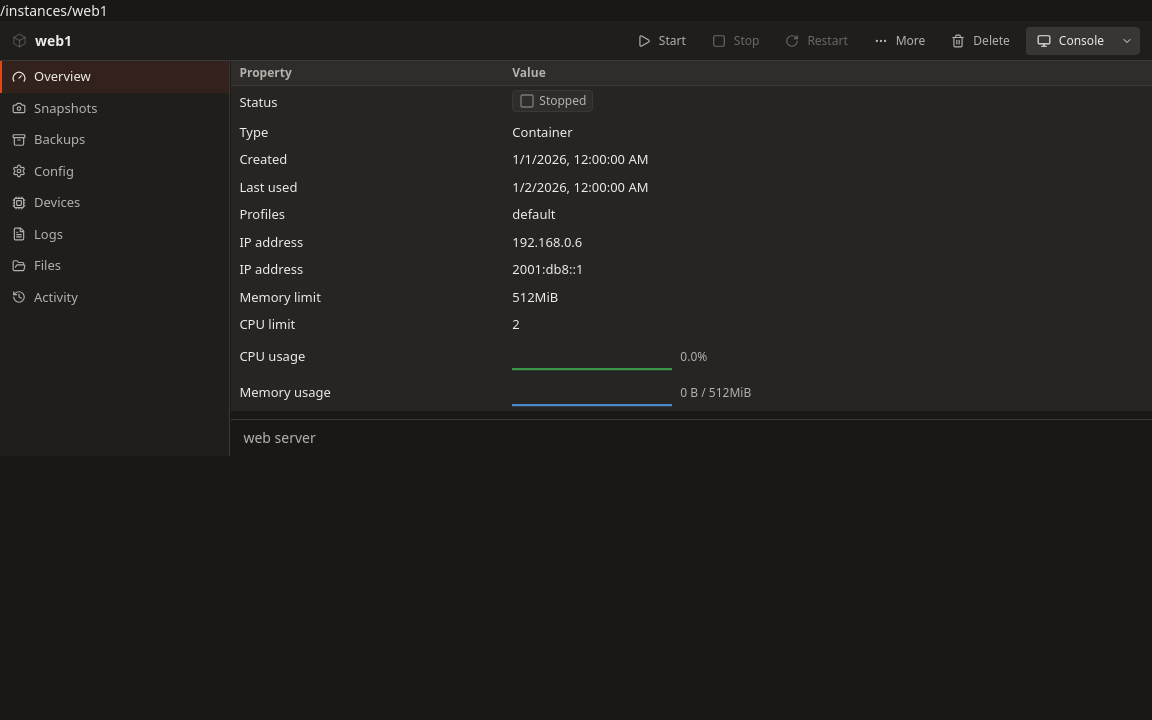
it: InstanceDetailPage › navigates to the new name after rename
Expected: the text "web1" is shown, [12,30,72,50]
Click the button with test id "detail-more" at (900, 40), box [864,26,935,54]
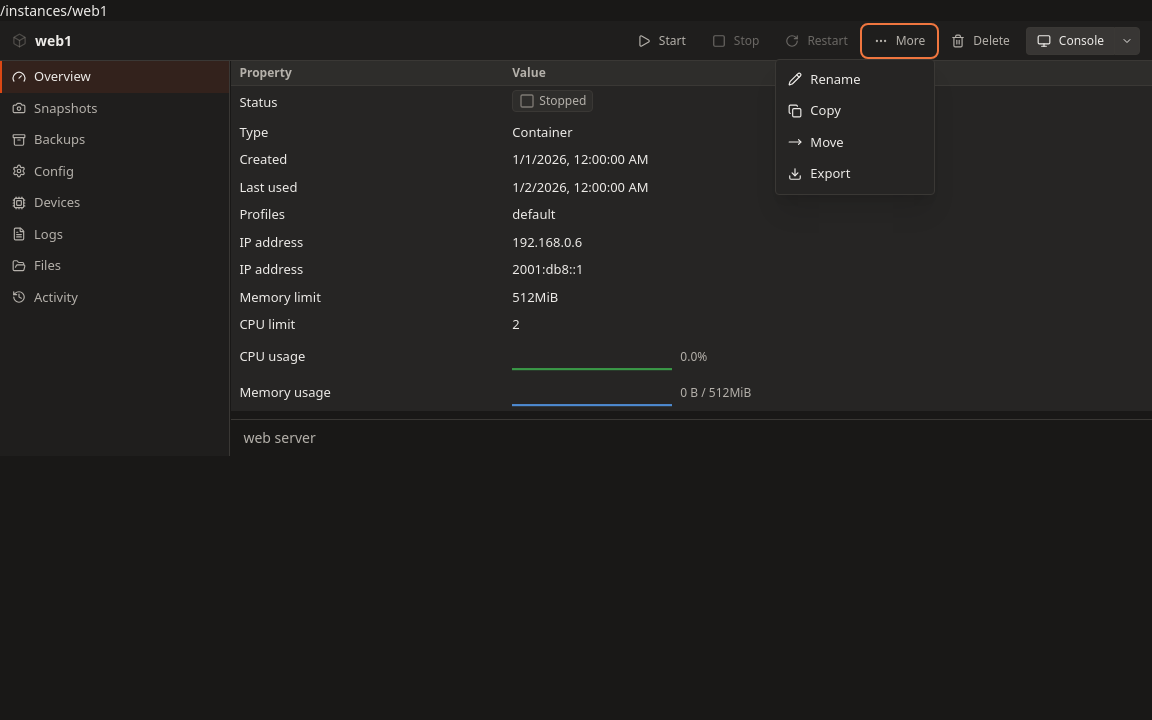
Click the button with test id "detail-more-rename" at (855, 79), box [776,64,934,95]
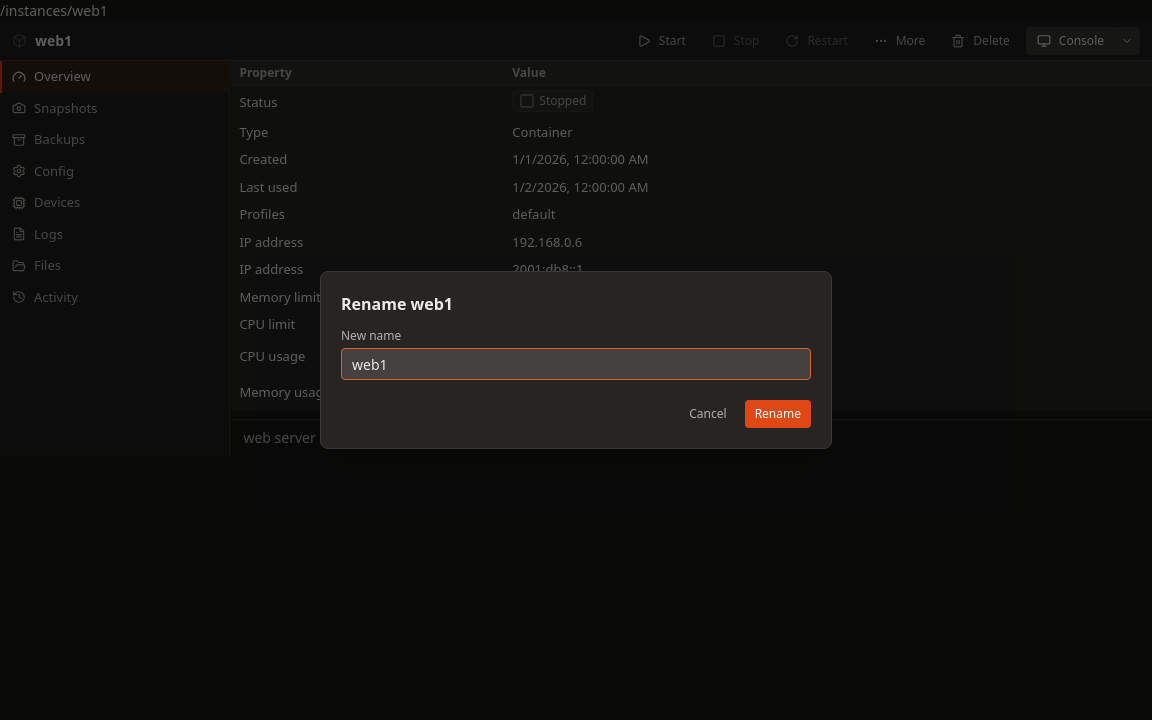
Replace the text in the field with test id "rename-name" with "web2" at (576, 364), box [341,348,811,380]
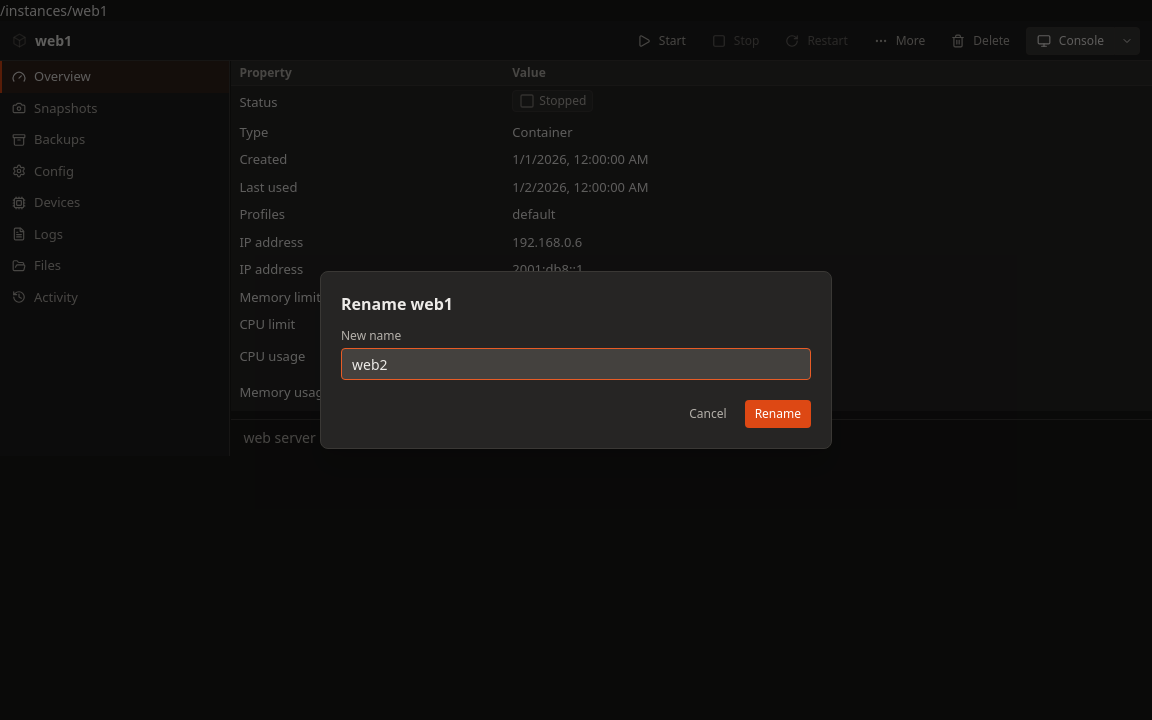
Click the button with test id "rename-confirm" at (778, 414), box [745,400,811,428]
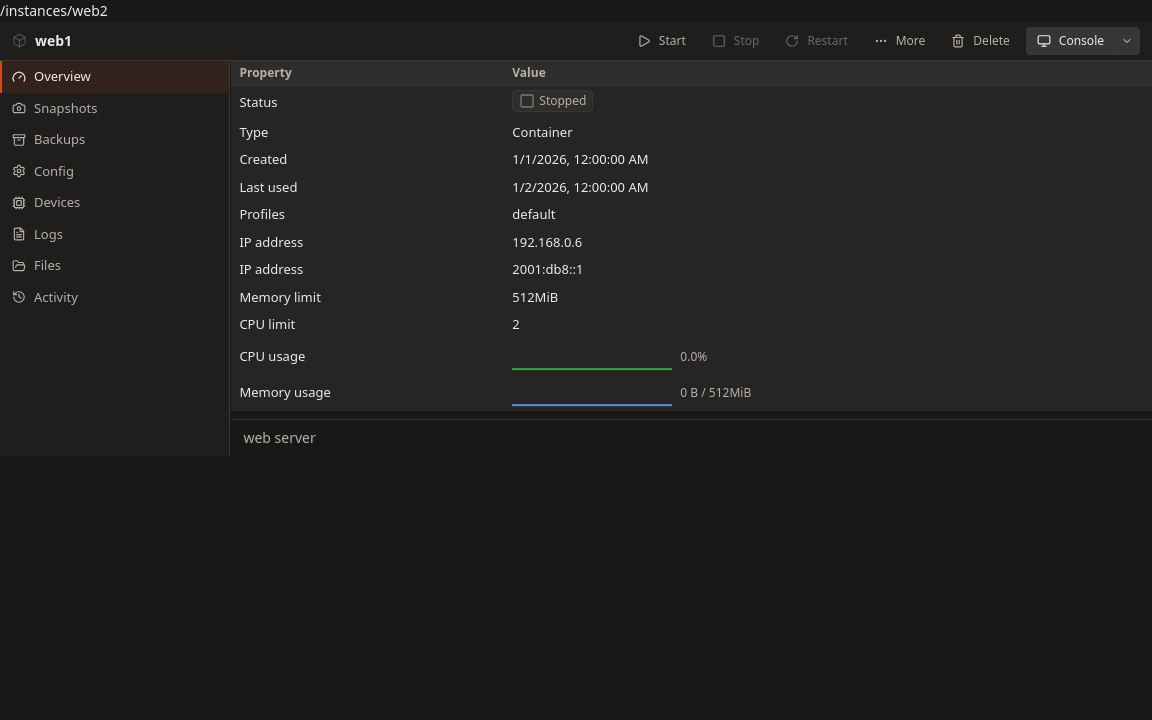
Result: the text with test id "location" reads "/instances/web2" at [0,1,108,20]
